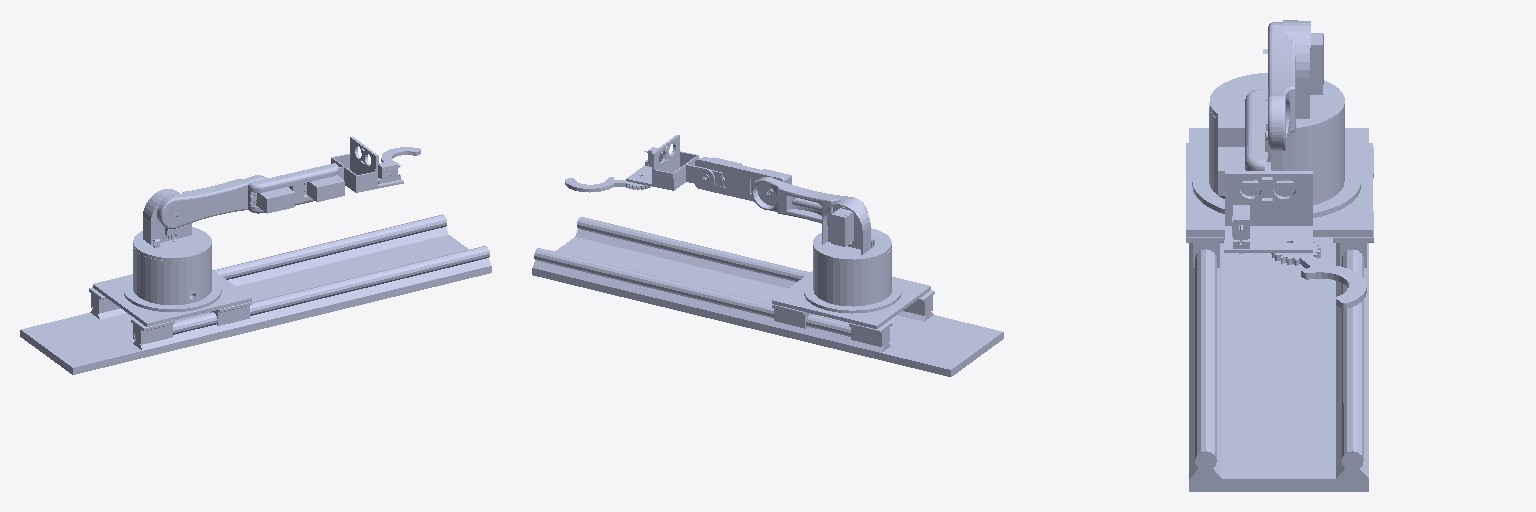
robot.urdf — urdfzico:
<?xml version="1.0" encoding="utf-8"?>
<!-- This URDF was automatically created by SolidWorks to URDF Exporter! Originally created by Stephen Brawner (brawner@gmail.com) 
     Commit Version: 1.6.0-4-g7f85cfe  Build Version: 1.6.7995.38578
     For more information, please see http://wiki.ros.org/sw_urdf_exporter -->
<robot
  name="urdfzico">
  <link
    name="base_link">
    <inertial>
      <origin
        xyz="0 0 0"
        rpy="0 0 0" />
      <mass
        value="1.10519833814517" />
      <inertia
        ixx="0.0301945356303274"
        ixy="-6.27659071217869E-21"
        ixz="8.7439328077221E-19"
        iyy="0.0312805139829644"
        iyz="6.61744490042422E-21"
        izz="0.00112511885724296" />
    </inertial>
    <visual>
      <origin
        xyz="0.1325 0 0"
        rpy="1.5708 0 1.5708" />
      <geometry>
        <mesh
          filename="package://urdfzico/meshes/base_link.STL" />
      </geometry>
      <material
        name="">
        <color
          rgba="0.792156862745098 0.819607843137255 0.933333333333333 1" />
      </material>
    </visual>
    <collision>
      <origin
        xyz="0 0 0"
        rpy="1.5708 0 1.5708" />
      <geometry>
        <mesh
          filename="package://urdfzico/meshes/base_link.STL" />
      </geometry>
    </collision>
  </link>
  <link
    name="Prismatic">
    <inertial>
      <origin
        xyz="0 0 0"
        rpy="0 0 0" />
      <mass
        value="0.284396751661434" />
      <inertia
        ixx="0.000360333437985384"
        ixy="1.48677705313527E-06"
        ixz="1.89051483101399E-11"
        iyy="0.000603220238754011"
        iyz="-1.67712014193699E-12"
        izz="0.000339242813612446" />
    </inertial>
    <visual>
      <origin
        xyz="0 0 0"
        rpy="0 0 0" />
      <geometry>
        <mesh
          filename="package://urdfzico/meshes/Prismatic.STL" />
      </geometry>
      <material
        name="">
        <color
          rgba="0.792156862745098 0.819607843137255 0.933333333333333 1" />
      </material>
    </visual>
    <collision>
      <origin
        xyz="0 0 0"
        rpy="0 0 0" />
      <geometry>
        <mesh
          filename="package://urdfzico/meshes/Prismatic.STL" />
      </geometry>
    </collision>
  </link>
  <joint
    name="1.1_prismatic"
    type="prismatic">
    <origin
      xyz="0 0 0.0368"
      rpy="1.5708 0 -1.5708" />
    <parent
      link="base_link" />
    <child
      link="Prismatic" />
    <axis
      xyz="0 0 -1" />
    <limit
      lower="0"
      upper="1"
      effort="0"
      velocity="0" />
  </joint>
  <link
    name="1">
    <inertial>
      <origin
        xyz="-2.83536397881062E-05 -0.0083947374130732 0.0177101930027231"
        rpy="0 0 0" />
      <mass
        value="0.0816249258869416" />
      <inertia
        ixx="4.58229127795834E-05"
        ixy="-4.07484815591778E-07"
        ixz="2.13260200310599E-07"
        iyy="5.05996034856562E-05"
        iyz="3.81698493052807E-06"
        izz="5.05662514014459E-05" />
    </inertial>
    <visual>
      <origin
        xyz="0 0 0"
        rpy="0 0 0" />
      <geometry>
        <mesh
          filename="package://urdfzico/meshes/1.STL" />
      </geometry>
      <material
        name="">
        <color
          rgba="0.792156862745098 0.819607843137255 0.933333333333333 1" />
      </material>
    </visual>
    <collision>
      <origin
        xyz="0 0 0"
        rpy="0 0 0" />
      <geometry>
        <mesh
          filename="package://urdfzico/meshes/1.STL" />
      </geometry>
    </collision>
  </link>
  <joint
    name="1.1"
    type="revolute">
    <origin
      xyz="0.00175799873383092 0.0733999999999983 0"
      rpy="-1.5707963267949 -1.6227963267949 0" />
    <parent
      link="Prismatic" />
    <child
      link="1" />
    <axis
      xyz="0 0 1" />
    <limit
      lower="0"
      upper="3.14159"
      effort="0.98067"
      velocity="1.6" />
  </joint>
  <link
    name="2">
    <inertial>
      <origin
        xyz="0.0594731957904817 -0.000254322338140434 -0.01102998324759"
        rpy="0 0 0" />
      <mass
        value="0.0571970346449202" />
      <inertia
        ixx="9.89323668397052E-06"
        ixy="3.16841669327108E-07"
        ixz="3.93404522220625E-06"
        iyy="8.45823182863725E-05"
        iyz="-1.54212873938323E-08"
        izz="9.03751669381357E-05" />
    </inertial>
    <visual>
      <origin
        xyz="0 0 0"
        rpy="0 0 0" />
      <geometry>
        <mesh
          filename="package://urdfzico/meshes/2.STL" />
      </geometry>
      <material
        name="">
        <color
          rgba="0.792156862745098 0.819607843137255 0.933333333333333 1" />
      </material>
    </visual>
    <collision>
      <origin
        xyz="0 0 0"
        rpy="0 0 0" />
      <geometry>
        <mesh
          filename="package://urdfzico/meshes/2.STL" />
      </geometry>
    </collision>
  </link>
  <joint
    name="1.2"
    type="revolute">
    <origin
      xyz="-0.00111515986057488 0.00606701711401303 0.039825"
      rpy="1.5707963267949 0 3.14159" />
    <parent
      link="1" />
    <child
      link="2" />
    <axis
      xyz="0.0487303131024854 0 0.998811972587901" />
    <limit
      lower="0"
      upper="3.14159"
      effort="0.98067"
      velocity="1.6" />
  </joint>
  <link
    name="3">
    <inertial>
      <origin
        xyz="0.0467156192832037 -0.000606915695121668 0.0139514456937673"
        rpy="0 0 0" />
      <mass
        value="0.10186998650929" />
      <inertia
        ixx="1.74337399051014E-05"
        ixy="6.19485255414063E-07"
        ixz="2.43592885228709E-06"
        iyy="6.42950415248959E-05"
        iyz="-3.02236156388437E-08"
        izz="6.72434667811931E-05" />
    </inertial>
    <visual>
      <origin
        xyz="0 0 0"
        rpy="0 0 0" />
      <geometry>
        <mesh
          filename="package://urdfzico/meshes/3.STL" />
      </geometry>
      <material
        name="">
        <color
          rgba="0.792156862745098 0.819607843137255 0.933333333333333 1" />
      </material>
    </visual>
    <collision>
      <origin
        xyz="0 0 0"
        rpy="0 0 0" />
      <geometry>
        <mesh
          filename="package://urdfzico/meshes/3.STL" />
      </geometry>
    </collision>
  </link>
  <joint
    name="1.3"
    type="revolute">
    <origin
      xyz="0.119734531241755 -0.000509344376421139 -0.00834461482774887"
      rpy="0 0 0" />
    <parent
      link="2" />
    <child
      link="3" />
    <axis
      xyz="0.0487303131024851 0 0.998811972587901" />
    <limit
      lower="-1.5708"
      upper="1.5708"
      effort="0.98067"
      velocity="1.6" />
  </joint>
  <link
    name="4">
    <inertial>
      <origin
        xyz="0.0607583163934725 -0.00171220223208213 0.00257986406082863"
        rpy="0 0 0" />
      <mass
        value="0.0306921200307538" />
      <inertia
        ixx="1.31046272212218E-05"
        ixy="1.65110098771937E-06"
        ixz="3.39811186824706E-07"
        iyy="2.06356256679673E-05"
        iyz="-1.94278600602882E-07"
        izz="1.52525901506731E-05" />
    </inertial>
    <visual>
      <origin
        xyz="0 0 0"
        rpy="0 0 0" />
      <geometry>
        <mesh
          filename="package://urdfzico/meshes/4.STL" />
      </geometry>
      <material
        name="">
        <color
          rgba="0.792156862745098 0.819607843137255 0.933333333333333 1" />
      </material>
    </visual>
    <collision>
      <origin
        xyz="0 0 0"
        rpy="0 0 0" />
      <geometry>
        <mesh
          filename="package://urdfzico/meshes/4.STL" />
      </geometry>
    </collision>
  </link>
  <joint
    name="1.4"
    type="revolute">
    <origin
      xyz="0.0917255549079307 -0.00121217002670104 -0.00447513158916335"
      rpy="0 0 0" />
    <parent
      link="3" />
    <child
      link="4" />
    <axis
      xyz="0.0487303131024849 0 0.998811972587901" />
    <limit
      lower="-1.5708"
      upper="1.5708"
      effort="0.98067"
      velocity="1.6" />
  </joint>
  <link
    name="Lengan 1">
    <inertial>
      <origin
        xyz="0.0280182339281564 0.0190630354360894 0.0089285166659078"
        rpy="0 0 0" />
      <mass
        value="0.00958270891875863" />
      <inertia
        ixx="3.65176904257716E-06"
        ixy="-4.5080521517862E-06"
        ixz="-3.02444853053999E-07"
        iyy="7.71421537023284E-06"
        iyz="-1.78200506567569E-07"
        izz="1.13023384483623E-05" />
    </inertial>
    <visual>
      <origin
        xyz="0 0 0"
        rpy="0 0 0" />
      <geometry>
        <mesh
          filename="package://urdfzico/meshes/Lengan 1.STL" />
      </geometry>
      <material
        name="">
        <color
          rgba="0.792156862745098 0.819607843137255 0.933333333333333 1" />
      </material>
    </visual>
    <collision>
      <origin
        xyz="0 0 0"
        rpy="0 0 0" />
      <geometry>
        <mesh
          filename="package://urdfzico/meshes/Lengan 1.STL" />
      </geometry>
    </collision>
  </link>
  <joint
    name="L1"
    type="revolute">
    <origin
      xyz="0.085936 -0.011916 0.016999"
      rpy="1.5708 0.5564 0" />
    <parent
      link="4" />
    <child
      link="Lengan 1" />
    <axis
      xyz="-0.040078 -0.0020784 0.99919" />
    <limit
      lower="0"
      upper="1.5708"
      effort="0.21575"
      velocity="0.1" />
  </joint>
  <link
    name="Lengan 2">
    <inertial>
      <origin
        xyz="0.0283578895175302 0.0234802884120538 -0.00765517213667749"
        rpy="0 0 0" />
      <mass
        value="0.00958270891875864" />
      <inertia
        ixx="3.63983444437337E-06"
        ixy="-4.51151276159005E-06"
        ixz="2.36510312100273E-08"
        iyy="7.71429931498142E-06"
        iyz="1.75794199000535E-08"
        izz="1.13141891018175E-05" />
    </inertial>
    <visual>
      <origin
        xyz="0 0 0"
        rpy="0 0 0" />
      <geometry>
        <mesh
          filename="package://urdfzico/meshes/Lengan 2.STL" />
      </geometry>
      <material
        name="">
        <color
          rgba="0.792156862745098 0.819607843137255 0.933333333333333 1" />
      </material>
    </visual>
    <collision>
      <origin
        xyz="0 0 0"
        rpy="0 0 0" />
      <geometry>
        <mesh
          filename="package://urdfzico/meshes/Lengan 2.STL" />
      </geometry>
    </collision>
  </link>
  <joint
    name="L2"
    type="revolute">
    <origin
      xyz="0.0842053287592729 -0.0119162026509208 -0.018375182255559"
      rpy="-1.57275164355665 0.0487104219205722 -0.040136015131031" />
    <parent
      link="4" />
    <child
      link="Lengan 2" />
    <axis
      xyz="0 0 -1" />
    <limit
      lower="0"
      upper="1.5708"
      effort="0.21575"
      velocity="0.1" />
  </joint>
</robot>

--- What the picture shows (computed from the rendered views, not written in the file) ---
The picture shows the robot from 3 angles, left to right: view 1: azimuth 30°, elevation 25°; view 2: azimuth 150°, elevation 25°; view 3: azimuth 270°, elevation 25°; orthographic projection.
Model urdfzico with 8 links and 7 joints (6 revolute, 1 prismatic), rooted at base_link, posed all joints at 0.
Visible links, largest first — view 1: base_link, Prismatic, 3, 1, 2, 4; view 2: base_link, Prismatic, 1, 4, 2, 3, Lengan 2; view 3: base_link, Prismatic, 4, 1, 3, 2, Lengan 2.
Link boxes in pixels (x1,y1,x2,y2): base_link: [20, 214, 491, 374]; Prismatic: [89, 246, 251, 344]; 3: [248, 163, 344, 213]; 1: [133, 189, 211, 260]; 2: [157, 175, 266, 228]; 4: [331, 137, 403, 192]; base_link: [532, 217, 1003, 376]; Prismatic: [772, 248, 934, 346]; 1: [813, 198, 891, 261]; 4: [626, 135, 714, 190]; 2: [752, 177, 867, 225]; 3: [695, 157, 791, 201]; Lengan 2: [565, 177, 650, 192]; base_link: [1189, 128, 1368, 491]; Prismatic: [1186, 103, 1373, 267]; 4: [1224, 162, 1312, 253]; 1: [1210, 20, 1344, 133]; 3: [1218, 89, 1272, 195]; 2: [1268, 22, 1295, 150]; Lengan 2: [1271, 240, 1366, 309].
Size in the robot's own frame: 0.6 by 0.136 by 0.1849 metres.
7 mesh visuals loaded from 8 distinct referenced files (7 binary STL); not drawn: 1 (reference not matched to a file when rendering).
